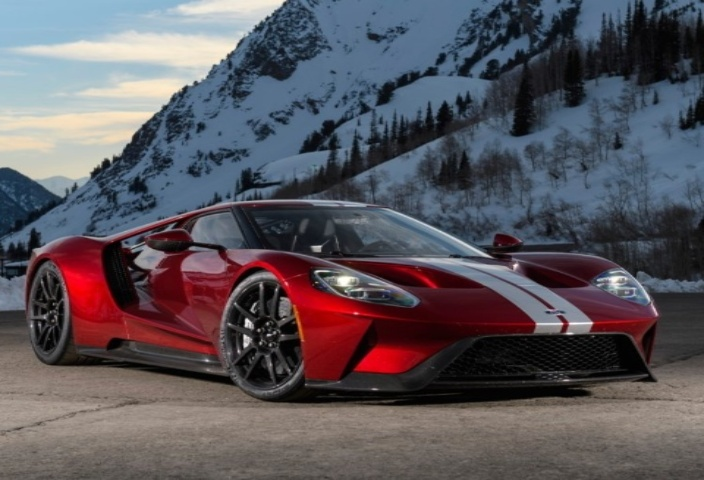car: (23, 171, 676, 421)
